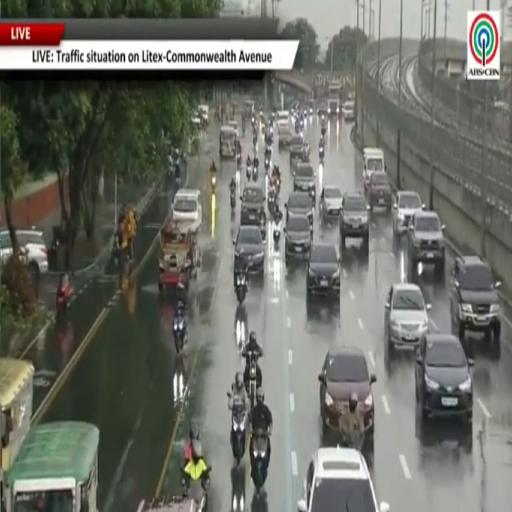car: (298, 447, 390, 511), (318, 347, 376, 441), (415, 333, 473, 423), (451, 256, 501, 345), (385, 283, 431, 350), (408, 211, 445, 280), (16, 229, 48, 289), (307, 243, 340, 299), (340, 194, 369, 251), (233, 226, 264, 275), (392, 190, 425, 235), (240, 185, 266, 237), (284, 215, 312, 262), (173, 189, 202, 226), (367, 171, 392, 212), (137, 496, 203, 511), (285, 192, 313, 225), (363, 147, 385, 188), (293, 163, 315, 200), (319, 186, 342, 221), (290, 135, 303, 166), (342, 101, 354, 122), (198, 104, 209, 125), (228, 120, 239, 138), (318, 103, 327, 119), (306, 100, 315, 115)
jeepney: (5, 422, 99, 511), (0, 359, 34, 472), (159, 218, 201, 293), (137, 496, 200, 511), (219, 125, 236, 158)
motorcycle: (182, 467, 211, 511), (251, 431, 270, 492), (231, 404, 247, 463), (247, 352, 261, 408), (56, 282, 72, 319), (340, 431, 365, 451), (173, 316, 186, 353), (236, 271, 247, 303), (268, 190, 276, 216), (273, 228, 280, 249), (230, 190, 235, 211), (252, 166, 258, 182), (211, 174, 216, 193), (319, 146, 324, 163), (236, 153, 241, 169), (246, 165, 251, 181), (265, 157, 270, 172), (299, 117, 304, 129), (253, 133, 257, 148), (295, 122, 300, 133)
truck: (327, 80, 343, 117), (276, 111, 291, 148)
